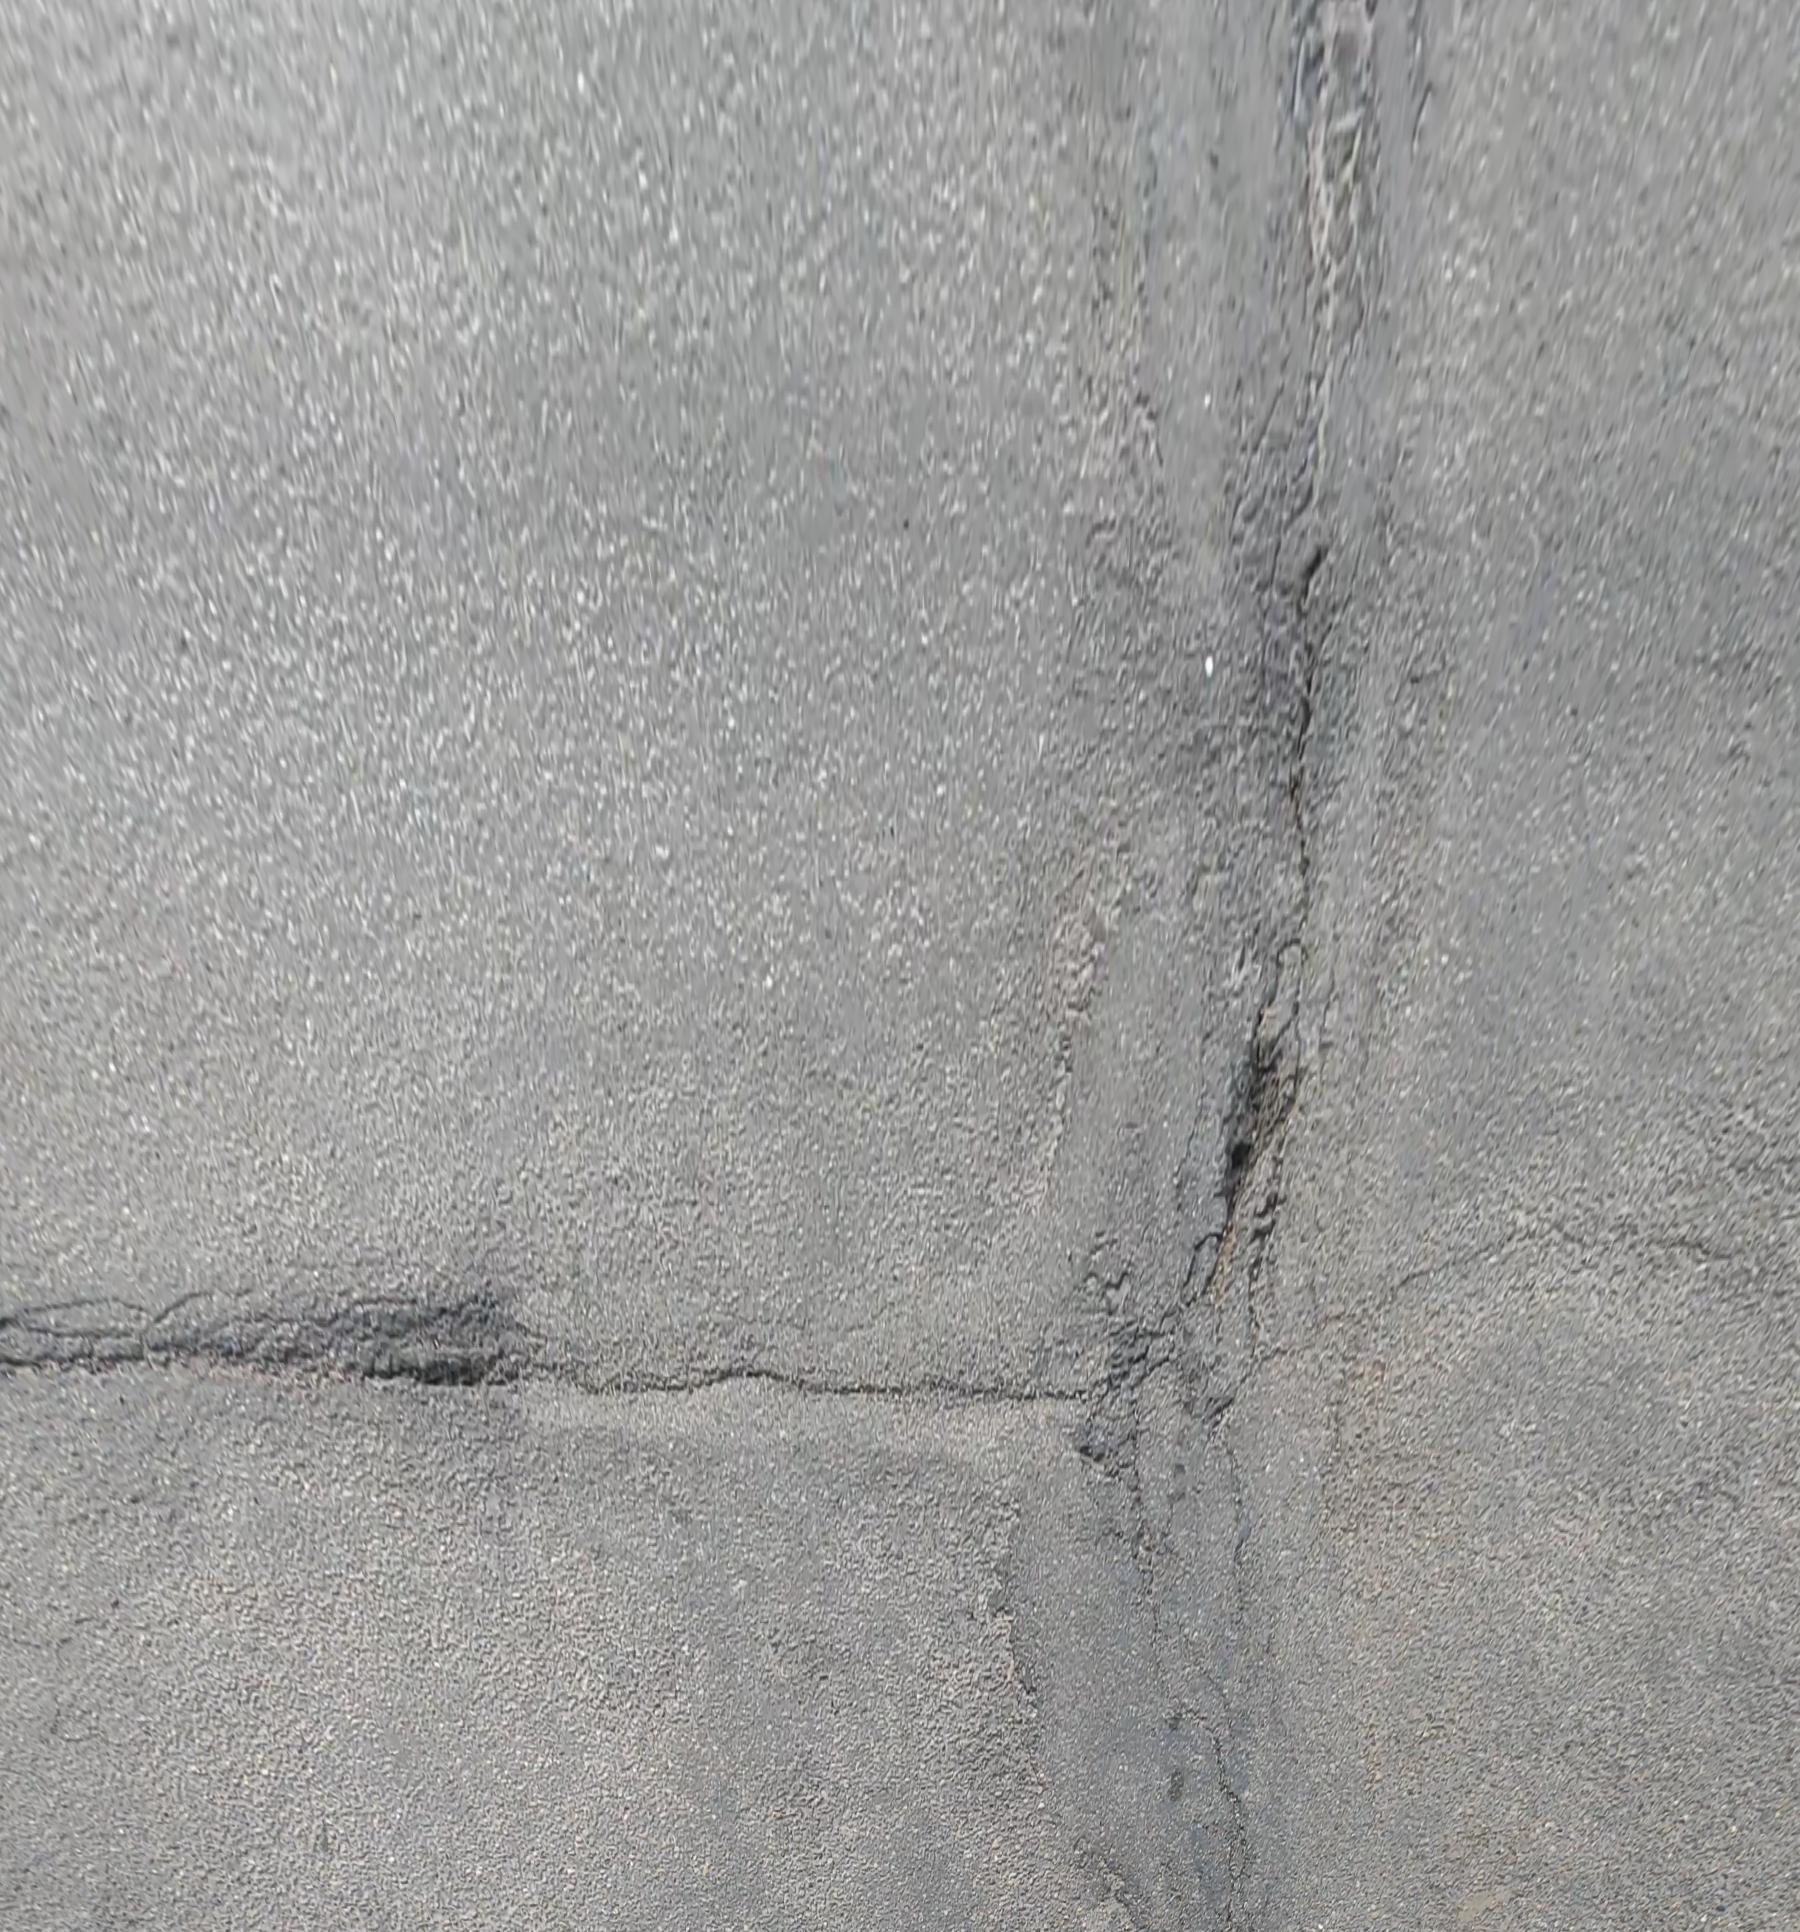pothole: (1213, 1030, 1301, 1193), (372, 1301, 524, 1387)
pothole_patch_poor: (1012, 0, 1433, 1932)
